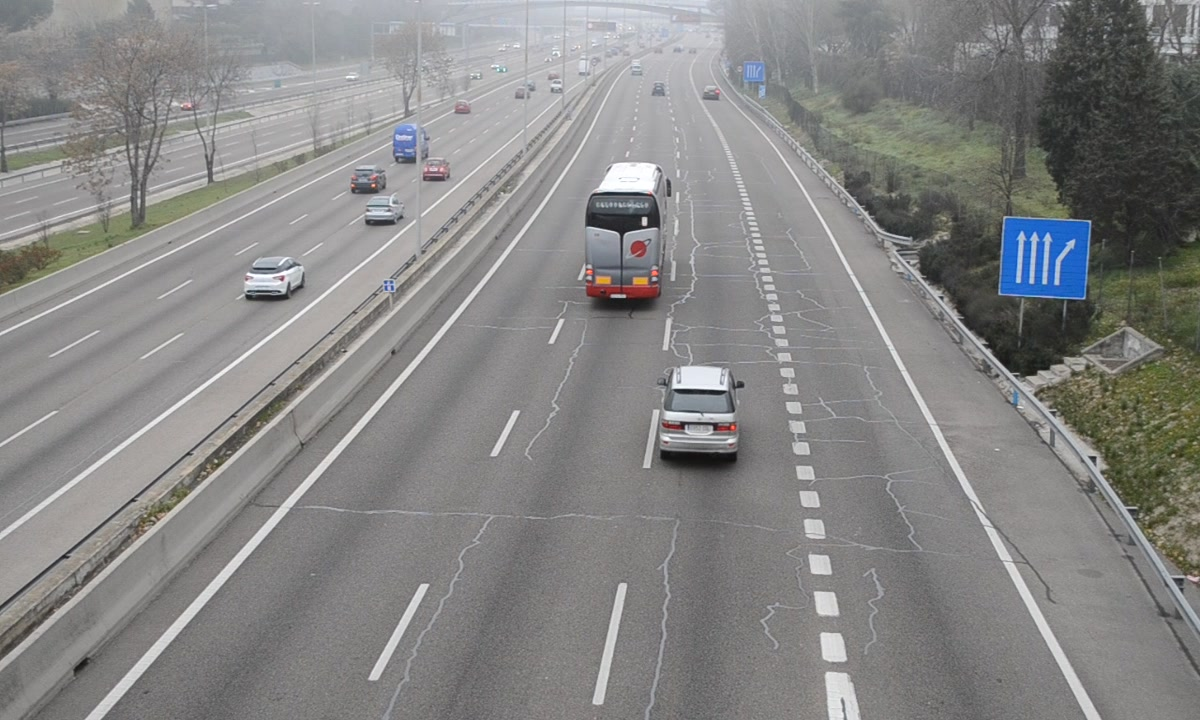bus: (584, 163, 666, 305)
car: (655, 366, 741, 456)
